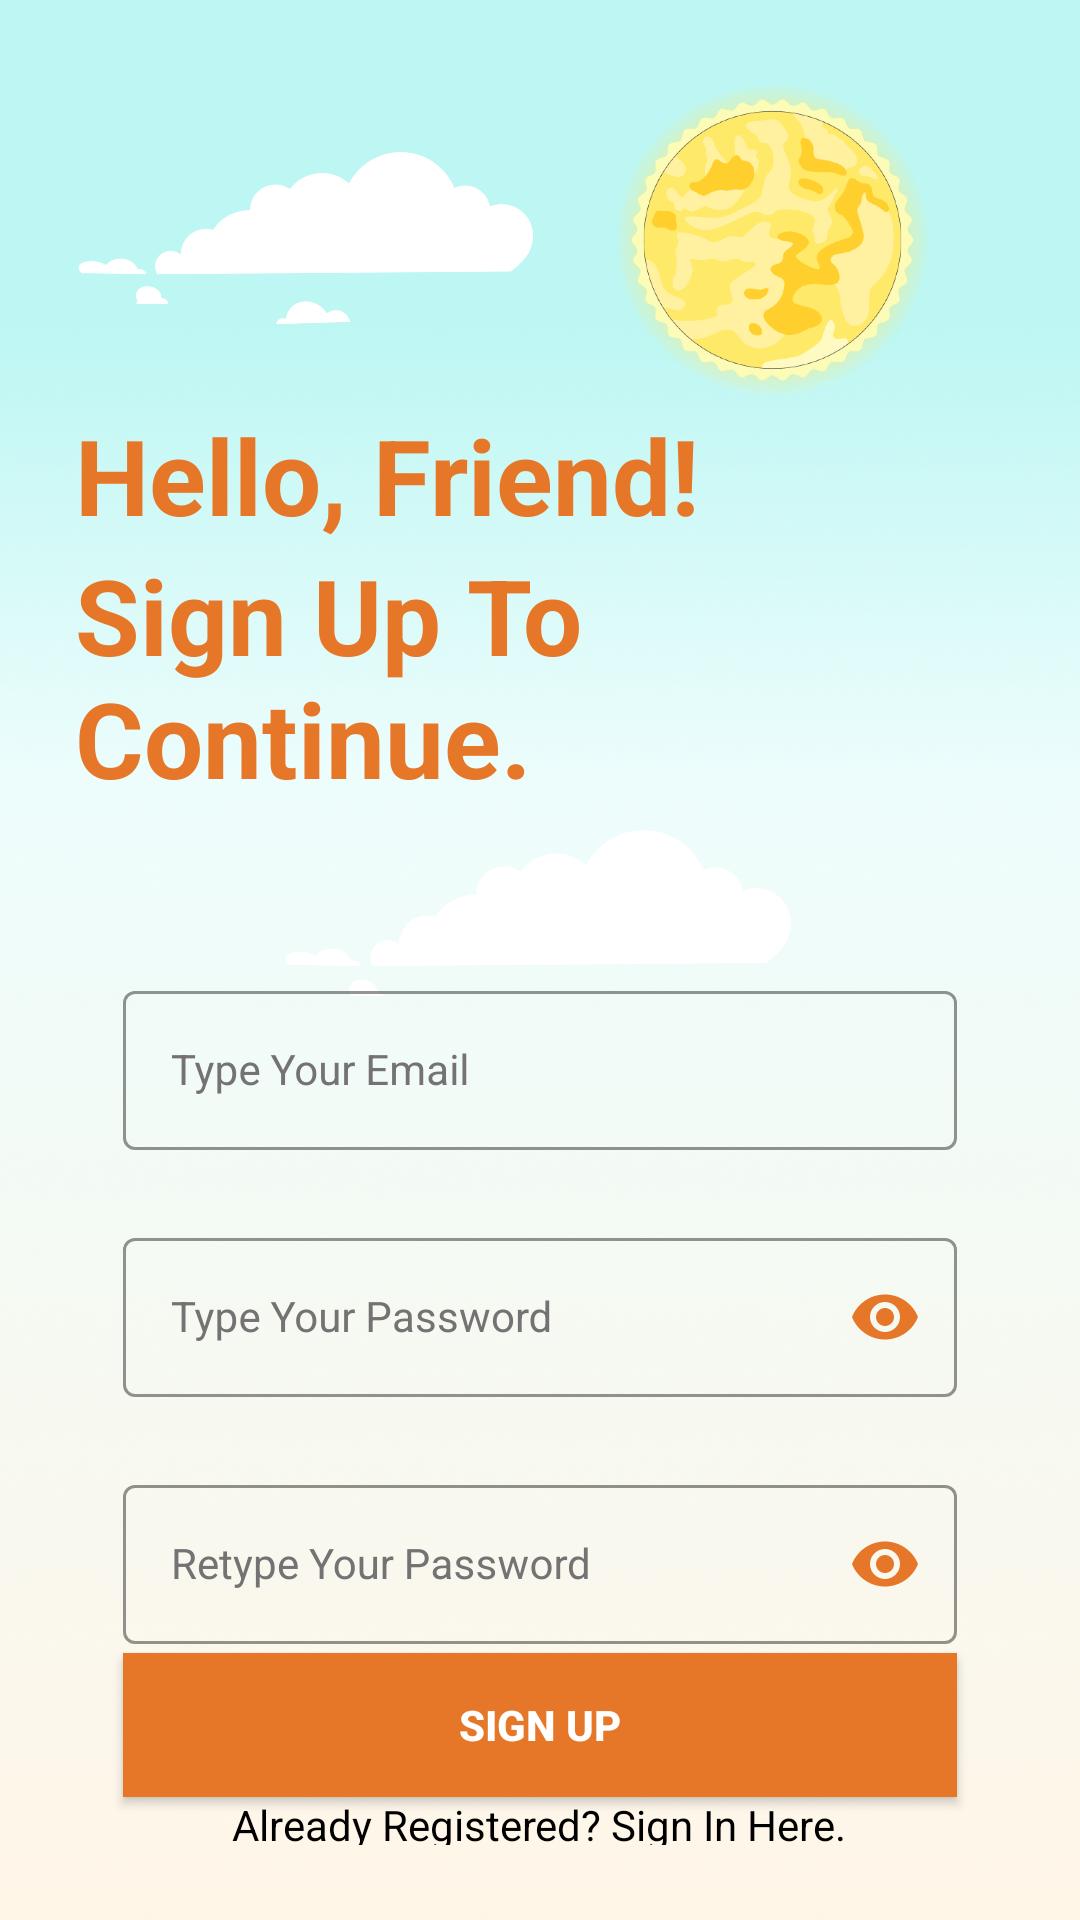

Where to tap for icons on this 1080x1920 app screen, as (x,y):
sign login sun: (772,240)
